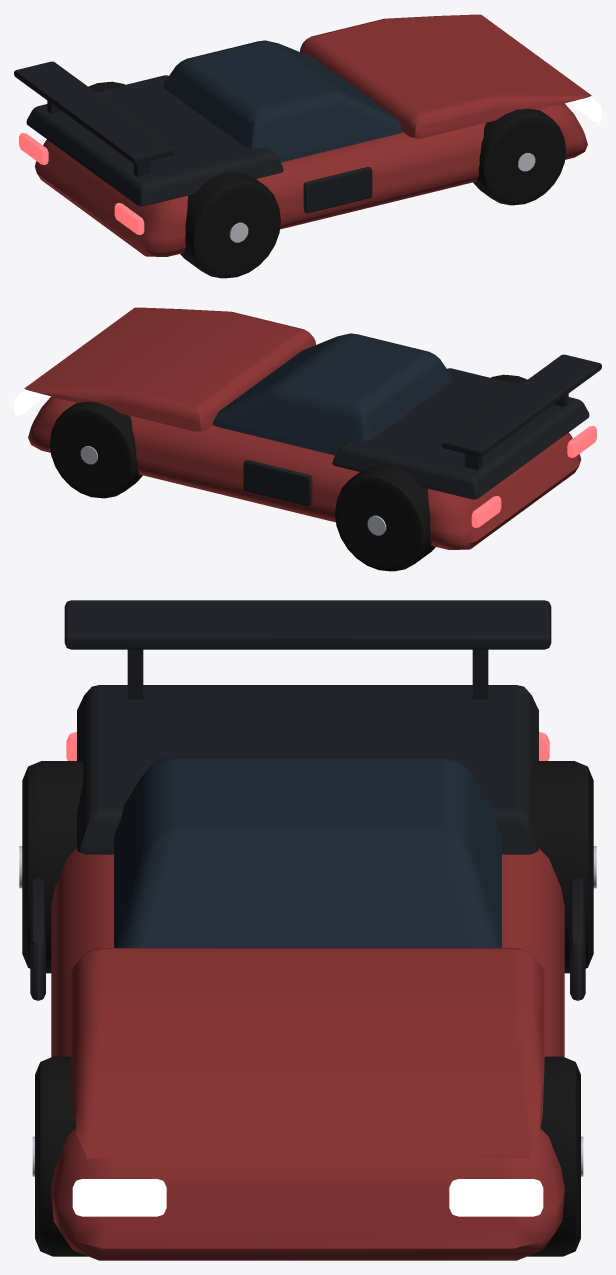
File: supercar.glb
The picture shows the model from 3 angles, top to bottom: view 1: azimuth 30°, elevation 25°; view 2: azimuth 150°, elevation 25°; view 3: azimuth 270°, elevation 25°; orthographic projection. The views are drawn at different scales.
Parts seen in each view (by area): view 1: part-paint, part-trim, part-glass, wheel--11--1-tyre, wheel-+11--1-tyre, part-taillight, headlight--1; view 2: part-paint, part-trim, part-glass, wheel--11-1-tyre, wheel-+11-1-tyre, part-taillight, headlight-1; view 3: part-paint, part-trim, part-glass, wheel--11-1-tyre, wheel--11--1-tyre, wheel-+11-1-tyre, wheel-+11--1-tyre, headlight-1, headlight--1.
Part boxes in pixels (bbox=[...]): part-paint: bbox=[34, 14, 591, 256]; part-trim: bbox=[14, 61, 372, 213]; part-glass: bbox=[163, 40, 403, 162]; wheel--11--1-tyre: bbox=[180, 171, 280, 278]; wheel-+11--1-tyre: bbox=[473, 108, 565, 205]; part-taillight: bbox=[19, 133, 144, 234]; headlight--1: bbox=[574, 97, 601, 122]; part-paint: bbox=[24, 307, 581, 549]; part-trim: bbox=[243, 354, 601, 506]; part-glass: bbox=[212, 333, 452, 455]; wheel--11-1-tyre: bbox=[335, 464, 435, 571]; wheel-+11-1-tyre: bbox=[50, 401, 142, 498]; part-taillight: bbox=[471, 426, 596, 527]; headlight-1: bbox=[14, 390, 41, 415]; part-paint: bbox=[51, 848, 564, 1260]; part-trim: bbox=[30, 600, 585, 1000]; part-glass: bbox=[114, 757, 501, 947]; wheel--11-1-tyre: bbox=[532, 761, 593, 973]; wheel--11--1-tyre: bbox=[22, 761, 83, 973]; wheel-+11-1-tyre: bbox=[527, 1056, 580, 1256]; wheel-+11--1-tyre: bbox=[35, 1056, 88, 1256]; headlight-1: bbox=[449, 1179, 543, 1216]; headlight--1: bbox=[72, 1179, 166, 1216].
Bounding box in the file's own units: 34.7 × 9.65 × 18.4.
